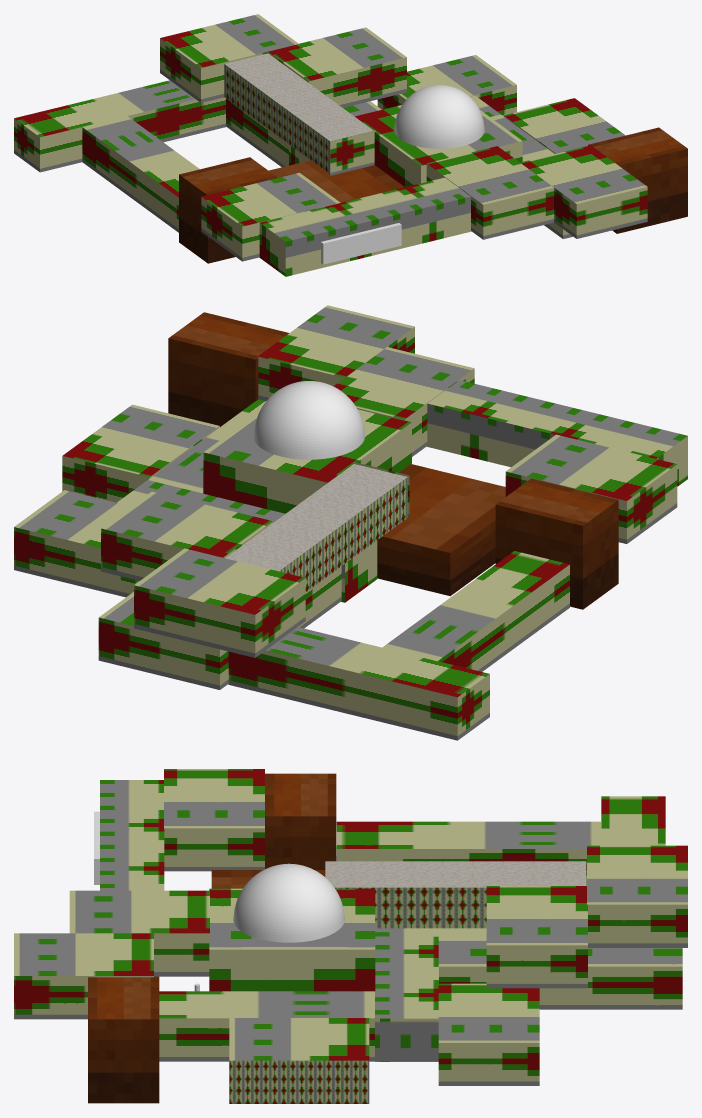
File: SweetHome.fbx
The picture shows the model from 3 angles, top to bottom: view 1: azimuth 30°, elevation 25°; view 2: azimuth 150°, elevation 25°; view 3: azimuth 270°, elevation 25°; orthographic projection. The views are drawn at different scales.
Visible parts, largest first — view 1: Cube.010, Cube.015, Cube.014, Cube.008, Cube.009, Cube.013, Cube.016, Cube.017, Cube.011, Cube.007, Cube, Sphere (+8 smaller); view 2: Cube.014, Cube.017, Cube.010, Cube.013, Cube.001, Cube.015, Cube.012, Cube, Cube.007, Cube.011, Cube.016, Cube.006 (+7 smaller); view 3: Cube.006, Cube, Cube.015, Cube.013, Cube.016, Cube.017, Cube.011, Cube.005, Cube.004, Cube.008, Cube.002, Cube.007 (+7 smaller).
Part boxes in pixels (x1,y1,x2,y2): Cube.010: [259, 177, 471, 276]; Cube.015: [223, 53, 375, 175]; Cube.014: [14, 80, 225, 172]; Cube.008: [520, 145, 647, 238]; Cube.009: [426, 146, 553, 239]; Cube.013: [82, 116, 199, 232]; Cube.016: [268, 27, 406, 107]; Cube.017: [160, 14, 298, 102]; Cube.011: [201, 172, 340, 261]; Cube.007: [588, 127, 687, 233]; Cube: [354, 105, 522, 186]; Sphere: [394, 85, 484, 148]; Cube.014: [228, 627, 489, 740]; Cube.017: [134, 548, 305, 657]; Cube.010: [427, 380, 687, 486]; Cube.013: [382, 551, 569, 671]; Cube.001: [377, 464, 505, 596]; Cube.015: [225, 462, 409, 592]; Cube.012: [495, 478, 618, 609]; Cube: [203, 409, 411, 513]; Cube.007: [168, 312, 288, 426]; Cube.011: [505, 434, 677, 543]; Cube.016: [101, 491, 272, 580]; Cube.006: [62, 404, 219, 502]; Cube.006: [229, 1018, 369, 1103]; Cube: [209, 888, 375, 991]; Cube.015: [325, 861, 586, 928]; Cube.013: [336, 821, 601, 883]; Cube.016: [486, 886, 587, 988]; Cube.017: [587, 845, 687, 947]; Cube.011: [164, 769, 264, 871]; Cube.005: [438, 983, 539, 1085]; Cube.004: [438, 928, 682, 1009]; Cube.008: [14, 933, 153, 1019]; Cube.002: [159, 991, 374, 1061]; Cube.007: [88, 976, 159, 1103].
Bounding box in the file's own units: 15305 × 3636 × 16435.
Materials: 27 (27 with a texture image).
